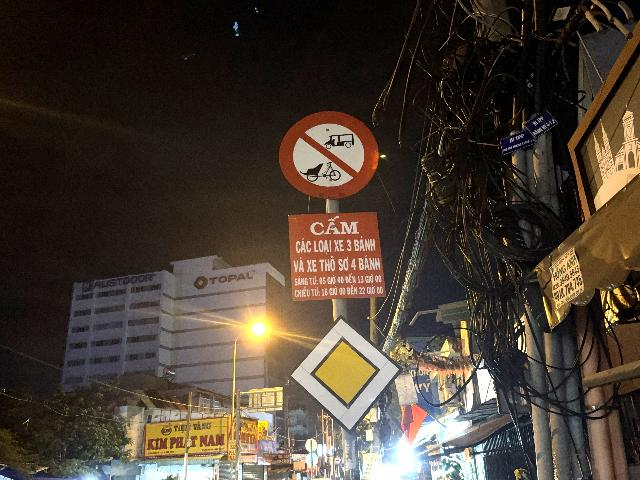bat-dau-duong-uu-tien: (285, 313, 405, 436)
cam-xe-3-banh-xe-tho-so-4-banh: (279, 110, 379, 200)
